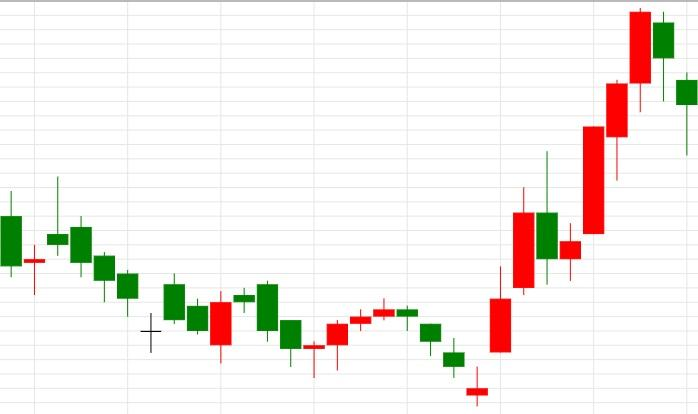bullish_engulfing_rise: (46, 176, 231, 364)
hanging_man_fall: (559, 8, 675, 280)
morning_star_rise: (397, 265, 511, 406), (234, 279, 348, 378)
